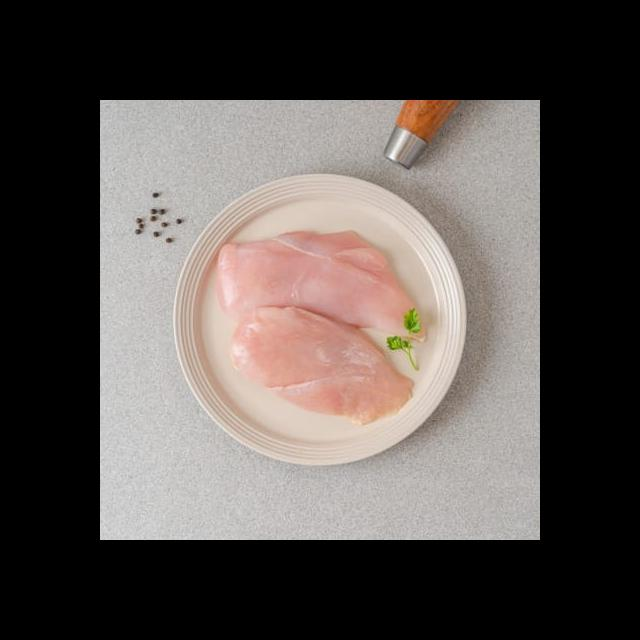chicken: (215, 228, 423, 341), (227, 302, 414, 426)
